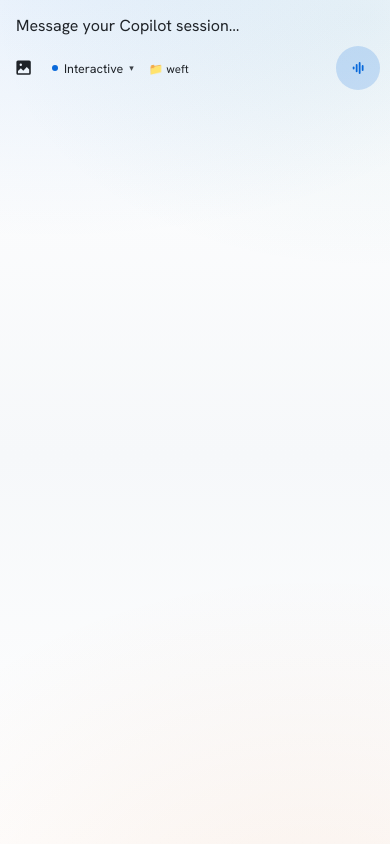
Scenario: Composer › morphs the primary empty action into voice mode and back to send
Step 1. Click the button named "Open Vox" → (358, 68), box x1=336 y1=46 x2=380 y2=90
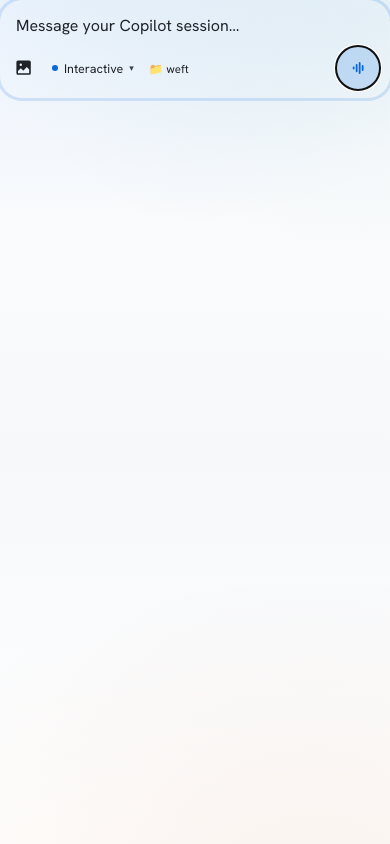
Step 2. Type "hello" into the text box labelled "Message your Copilot session" → (195, 25), box x1=10 y1=10 x2=380 y2=40
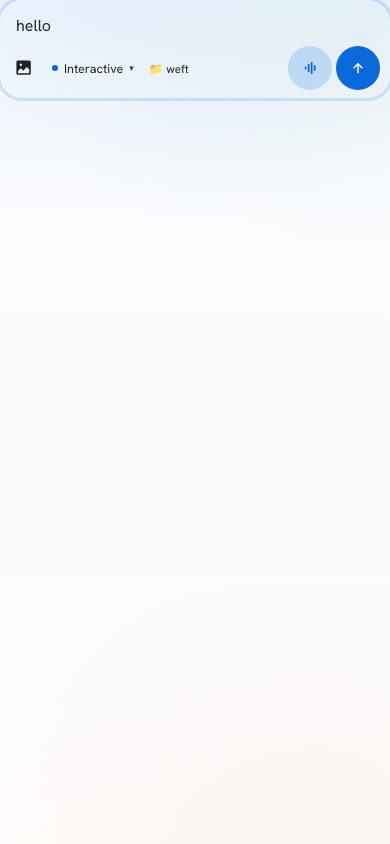
Check: the button named "Send" is enabled, box x1=336 y1=46 x2=380 y2=90
